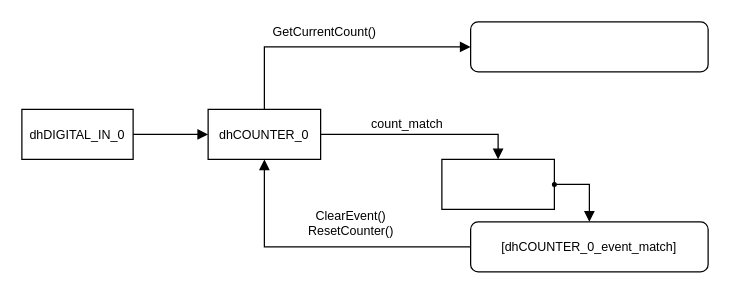
Image size: 730x294. Some labels were removed from this diagram. The shapes that lost their labels are listed below. From the top down, each one's centre as x and y in pixels, then its label:
[588,46]: main( )
[497,183]: INTERRUPT_0
